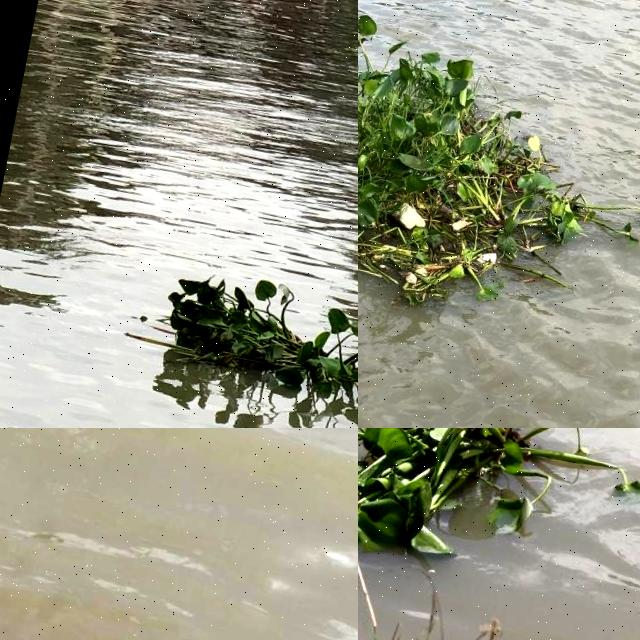water-hyacinth: (359, 1, 640, 420), (359, 429, 640, 590), (143, 259, 359, 429)
